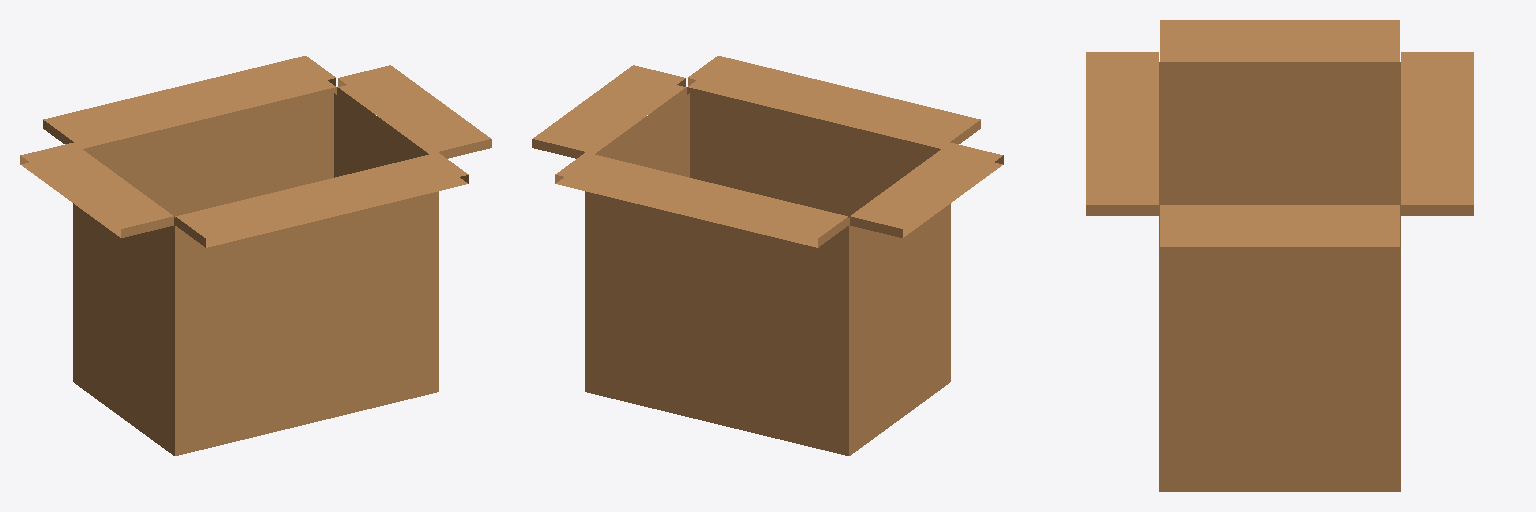
The robot description file, URDF, robot "open_box_flaps_out":
<?xml version="1.0"?>
<robot name="open_box_flaps_out">

  <link name="box_link">
  
    <visual>
      <origin xyz="0 0 0" rpy="0 0 0"/>
      <geometry>
        <mesh filename="package://Generic_Box_flaps_out/meshes/open_box_flaps_out2.stl" scale="1.0 1.0 1.0"/>
      </geometry>
      <material name="cardboard">
        <color rgba="0.8 0.6 0.4 1.0"/>
      </material>
    </visual>

    <collision>
      <origin xyz="0 0 0" rpy="0 0 0"/>
      <geometry>
        <mesh filename="package://Generic_Box_flaps_out/meshes/open_box_flaps_out2.stl" scale="1.0 1.0 1.0"/>
      </geometry>
    </collision>

    <inertial>
      <mass value="0.5"/>
      <origin xyz="0 0 0" rpy="0 0 0"/>
      <inertia
        ixx="0.01" ixy="0.0" ixz="0.0"
        iyy="0.01" iyz="0.0"
        izz="0.01"/>
    </inertial>
    
  </link>

</robot>

--- Render facts (derived) ---
3 views of the same robot in one strip: view 1: azimuth 30°, elevation 25°; view 2: azimuth 150°, elevation 25°; view 3: azimuth 270°, elevation 25° (orthographic).
Robot: open_box_flaps_out — 1 links, 0 joints (none); root link box_link; default pose: all joints at 0.
Visible links, largest first — view 1: box_link; view 2: box_link; view 3: box_link.
Boxes of the visible links, x1,y1,x2,y2 form: box_link: (20, 56, 491, 455); box_link: (532, 56, 1003, 455); box_link: (1086, 20, 1473, 491).
Bounding box of the posed robot: 0.42 × 0.32 × 0.26 m (x, y, z).
1 mesh visuals loaded from 1 distinct referenced files (1 binary STL).